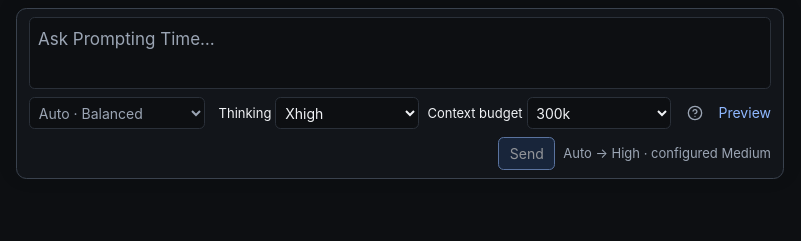
Scenario: Composer › filters extra effort levels by provider and preserves an unsupported saved choice
Expected: the text "Auto → High · configured Medium" is shown, [563,144,771,163]
Select "Claude" in the dropdown named "Provider" at (117,113), box [29,97,205,129]
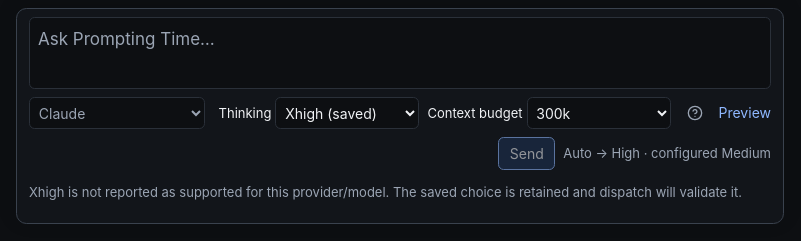
Now the text "Xhigh is not reported" is shown, box [29,184,771,202]
